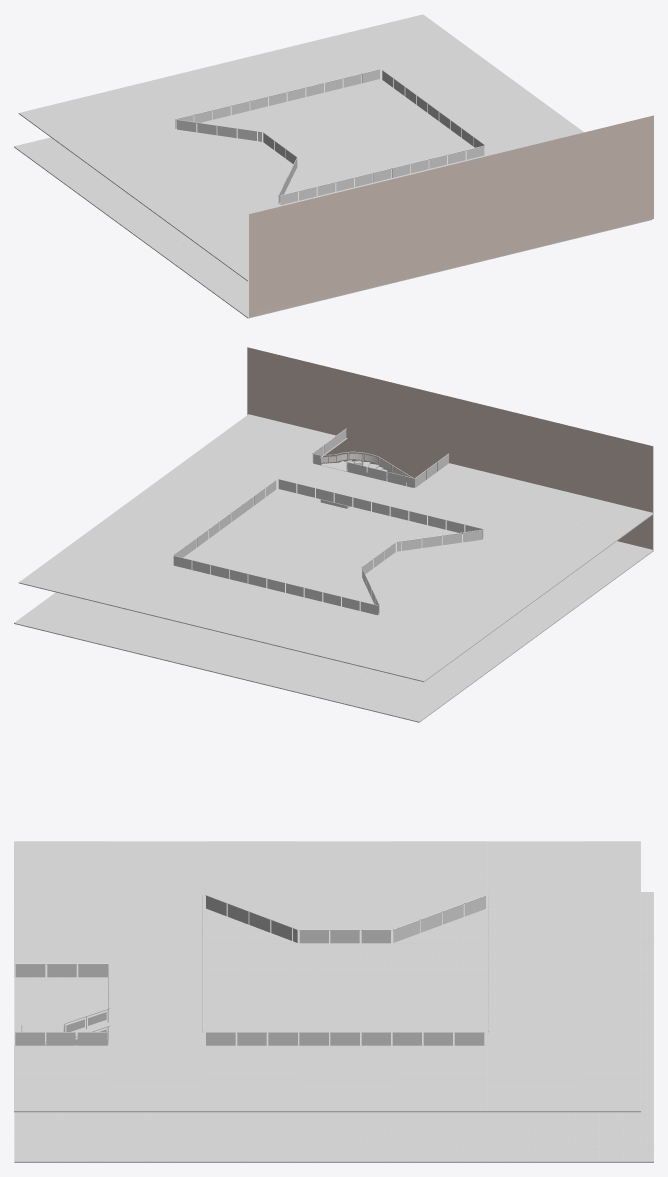
Rendered from arcade.dae.
3 renders of one model, top to bottom at view 1: azimuth 30°, elevation 25°; view 2: azimuth 150°, elevation 25°; view 3: azimuth 270°, elevation 25°, orthographic. The views are drawn at different scales.
Visible parts, largest first — view 1: first_floor, wall, ground_floor; view 2: first_floor, ground_floor, wall, stairs; view 3: first_floor, ground_floor, stairs.
Part boxes in pixels (x1,y1,x2,y2): first_floor: (18, 14, 583, 281); wall: (249, 115, 653, 317); ground_floor: (14, 79, 652, 318); first_floor: (18, 414, 653, 681); ground_floor: (14, 489, 653, 722); wall: (247, 347, 653, 549); stairs: (320, 451, 414, 508); first_floor: (14, 841, 640, 1112); ground_floor: (14, 892, 653, 1162); stairs: (21, 1008, 110, 1045).
Bounding box in the file's own units: 44.65 × 44.62 × 10.96.
